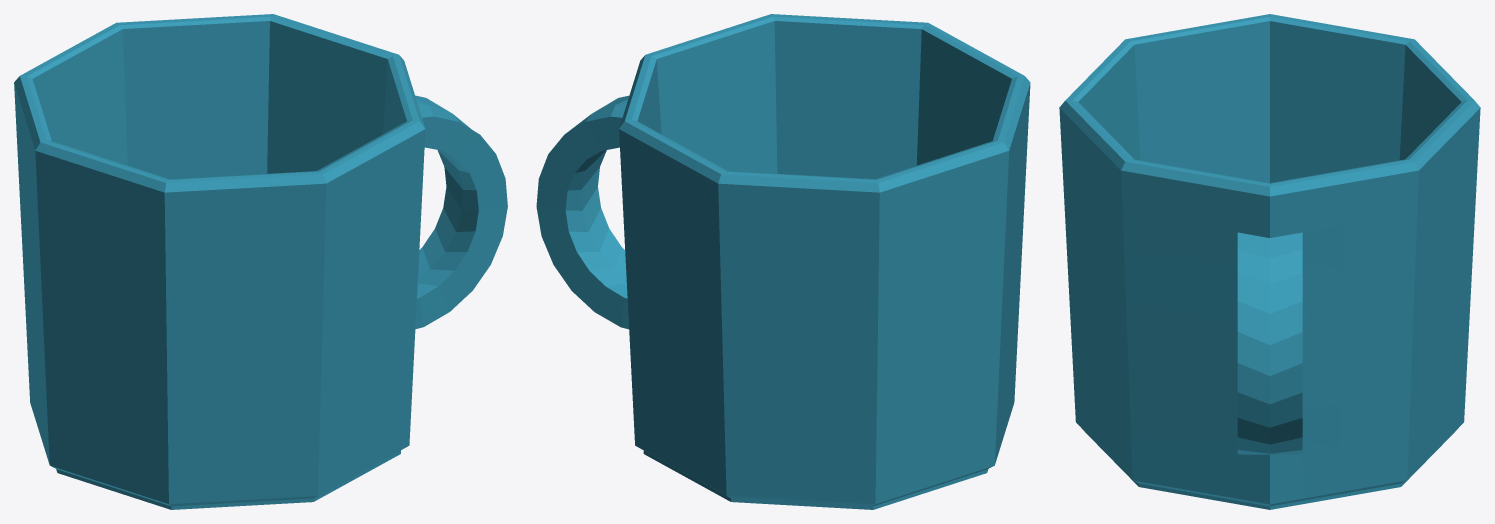
The model's file is cup_2.fbx.
3 views of the same model, side by side, from view 1: azimuth 30°, elevation 25°; view 2: azimuth 150°, elevation 25°; view 3: azimuth 270°, elevation 25° (orthographic).
Visible parts, largest first — view 1: Circle; view 2: Circle; view 3: Circle.
Part boxes in pixels (x1,y1,x2,y2): Circle: (14, 14, 507, 509); Circle: (536, 14, 1030, 509); Circle: (1059, 14, 1480, 509).
Bounding box in the file's own units: 147 × 103 × 119.
